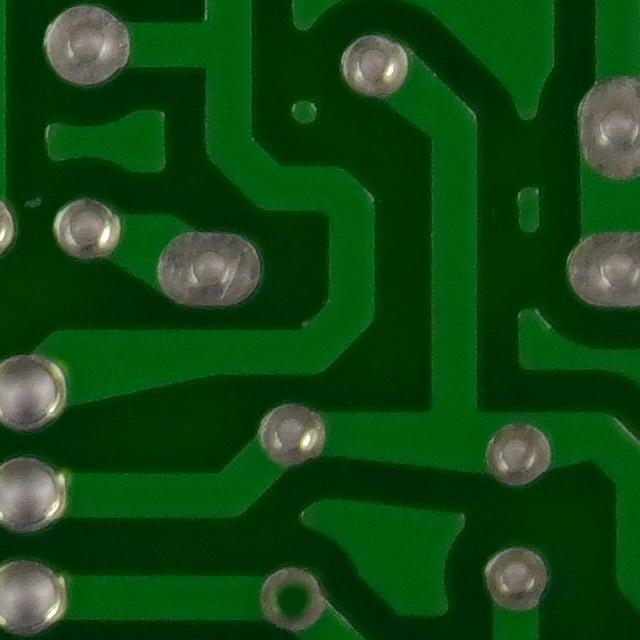missing_hole: (250, 557, 334, 635)
